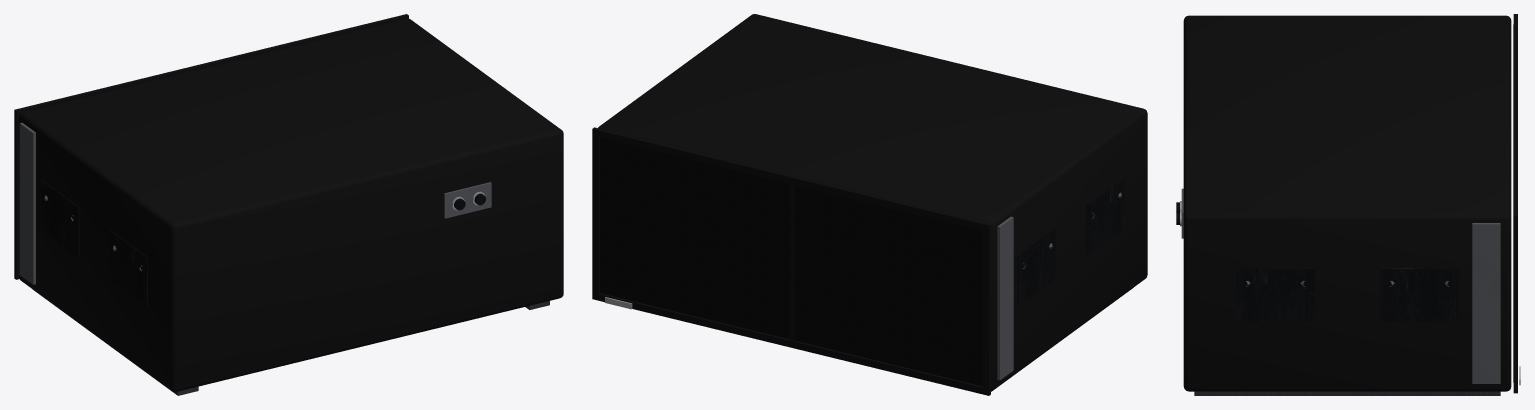
Rendered from sub_kay_ess_29.gltf.
The picture shows the model from 3 angles, left to right: view 1: azimuth 30°, elevation 25°; view 2: azimuth 150°, elevation 25°; view 3: azimuth 270°, elevation 25°; orthographic projection. The views are drawn at different scales.
Parts seen in each view (by area): view 1: sub_kay_ess_29; view 2: sub_kay_ess_29; view 3: sub_kay_ess_29.
Part boxes in pixels (<box>): sub_kay_ess_29: <box>14,14,563,395</box>; sub_kay_ess_29: <box>592,14,1147,395</box>; sub_kay_ess_29: <box>1176,14,1520,395</box>.
Bounding box in the file's own units: 1.36 × 0.575 × 0.967.
6 materials, 6 textured.
